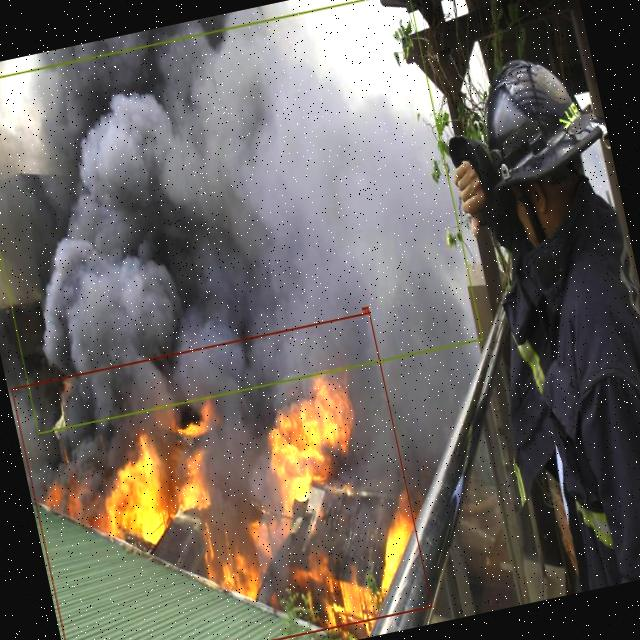fire: (10, 311, 432, 640)
smoke: (0, 0, 483, 433)
